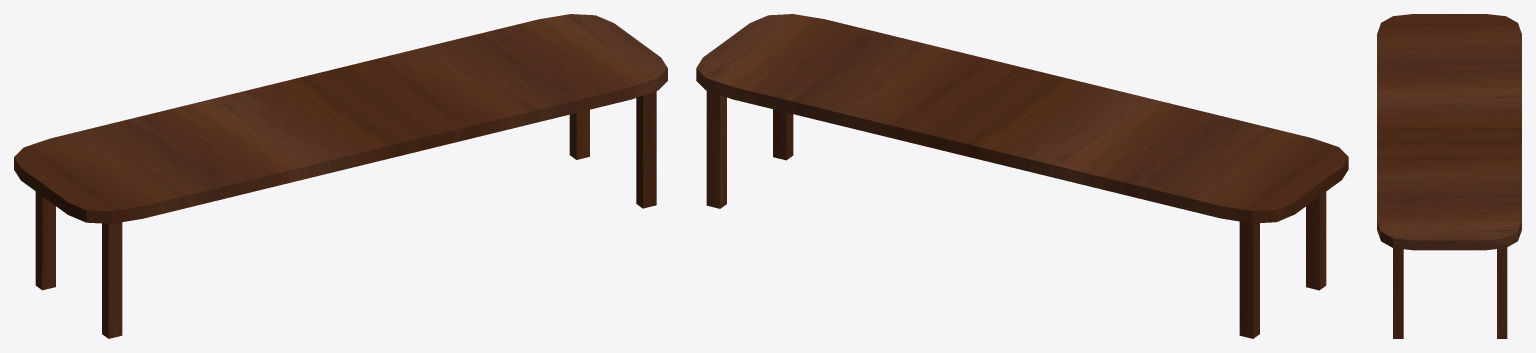
Rendered from street_restaurant_tablelong.FBX.
The picture shows the model from 3 angles, left to right: view 1: azimuth 30°, elevation 25°; view 2: azimuth 150°, elevation 25°; view 3: azimuth 270°, elevation 25°; orthographic projection. The views are drawn at different scales.
Parts seen in each view (by area): view 1: street_restaurant_tablelong; view 2: street_restaurant_tablelong; view 3: street_restaurant_tablelong.
Part boxes in pixels (x1=…): street_restaurant_tablelong: x1=14, y1=14, x2=667, y2=338; street_restaurant_tablelong: x1=696, y1=14, x2=1348, y2=338; street_restaurant_tablelong: x1=1377, y1=14, x2=1521, y2=338.
Size of the model in its own units: 268 by 57.96 by 72.34.
